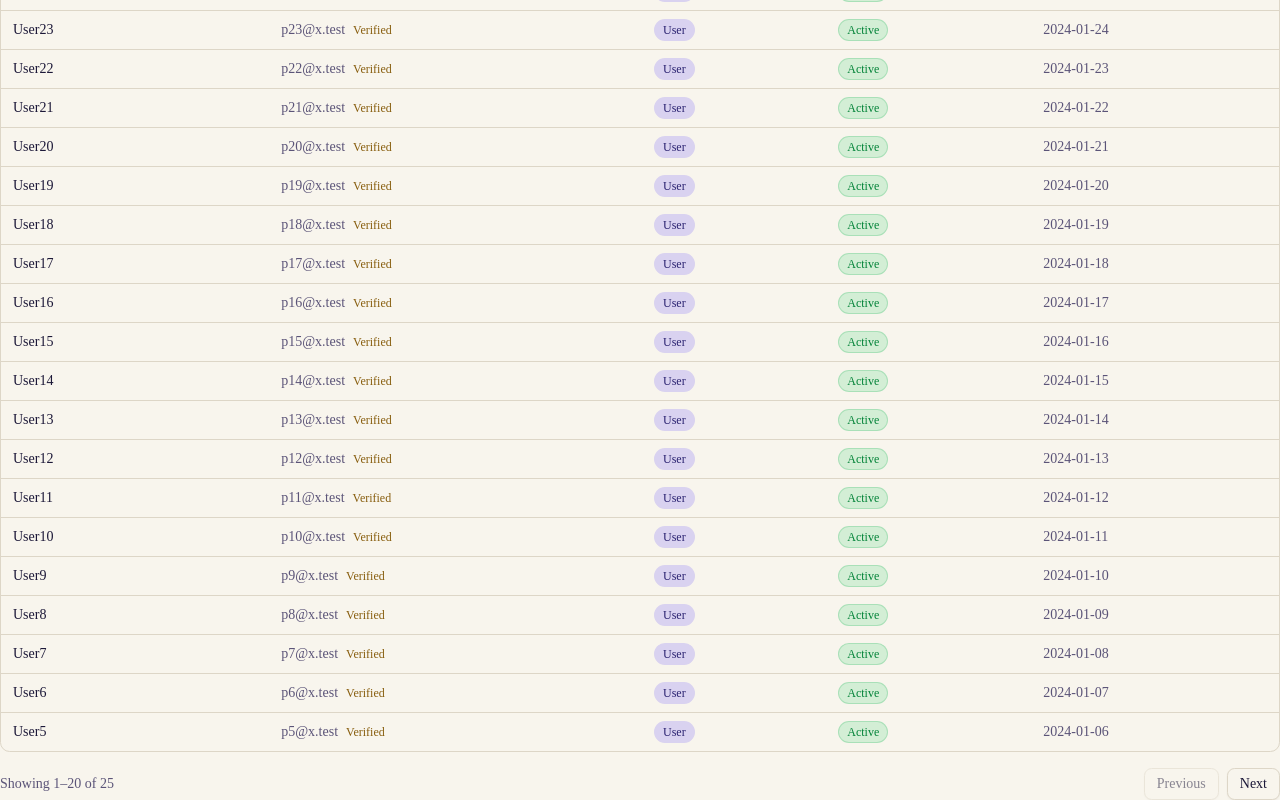
Test case: AdminUsersTable › shows a record range and pages through when rows exceed the page size
The image size is (1280, 800).
(page scrolled)
Expected: the text "Showing 1–20 of 25" is shown, 0,774 -> 114,794
Click the button "Next" at [1253, 784], box 1227,768 -> 1279,799
(page scrolled)
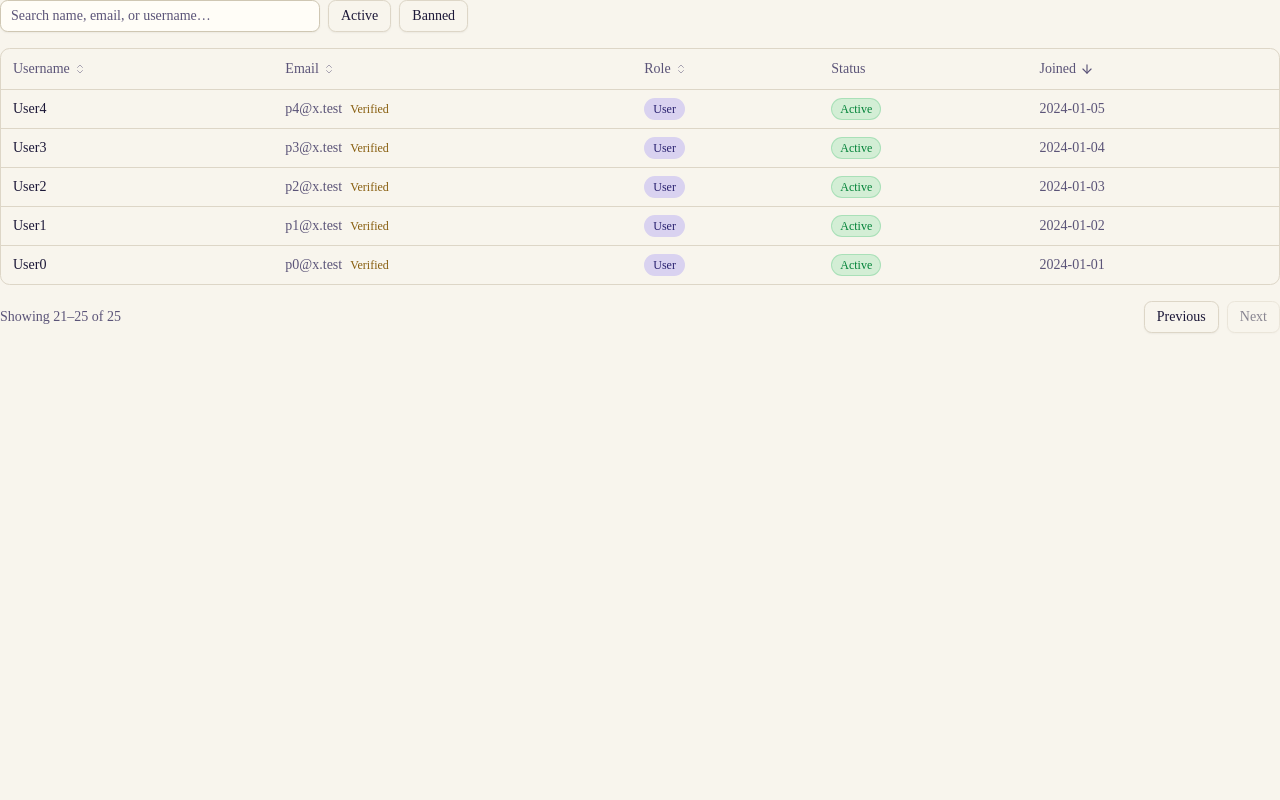
Result: the text "Showing 21–25 of 25" is shown at 0,306 -> 121,326
Result: the number of links is 5 at 13,100 -> 46,116; 13,140 -> 46,154; 13,178 -> 46,194; 13,218 -> 46,232; 13,256 -> 46,272
